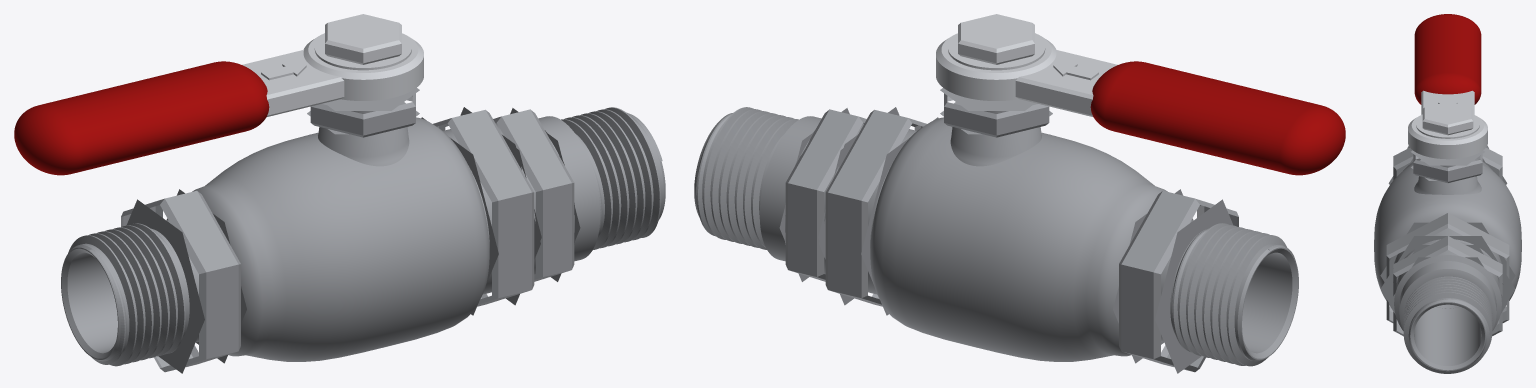
The model's file is valve.obj.
3 views of the same model, side by side, from view 1: azimuth 30°, elevation 25°; view 2: azimuth 150°, elevation 25°; view 3: azimuth 270°, elevation 25° (orthographic). The views are drawn at different scales.
Visible parts, largest first — view 1: Body, Grip, HexLeft, UnionNut, ThreadLeft, ThreadRight, HexRight, EndCap, HandleBar, PackingNut, HandleBoss, HandleNut (+2 smaller); view 2: Body, Grip, HexLeft, UnionNut, ThreadLeft, ThreadRight, HexRight, EndCap, HandleBar, PackingNut, HandleBoss, HandleNut (+2 smaller); view 3: EndCap, Body, Grip, UnionNut, ThreadRight, HexRight, HandleBoss, PackingNut, HandleNut, Bonnet, HexLeft, HandleBar (+1 smaller).
Boxes of the visible parts, x1,y1,x2,y2 form: Body: (61,117,489,361); Grip: (14,61,269,175); HexLeft: (121,189,246,373); UnionNut: (421,107,540,315); ThreadLeft: (68,223,185,366); ThreadRight: (561,107,662,249); HexRight: (493,108,580,281); EndCap: (495,116,665,274); HandleBar: (242,50,344,116); PackingNut: (307,88,419,137); HandleBoss: (303,33,423,100); HandleNut: (325,14,401,64); Body: (870,117,1298,361); Grip: (1090,61,1345,175); HexLeft: (1113,189,1238,373); UnionNut: (819,107,938,315); ThreadLeft: (1172,223,1294,366); ThreadRight: (696,107,798,249); HexRight: (779,108,866,281); EndCap: (694,116,864,274); HandleBar: (1015,50,1117,116); PackingNut: (940,88,1052,137); HandleBoss: (936,33,1056,100); HandleNut: (958,14,1034,64); EndCap: (1394,239,1501,371); Body: (1374,158,1521,308); Grip: (1414,14,1481,104); UnionNut: (1380,213,1515,322); ThreadRight: (1403,276,1492,373); HexRight: (1388,236,1507,336); HandleBoss: (1408,114,1487,159); PackingNut: (1411,150,1484,182); HandleNut: (1422,102,1473,135); Bonnet: (1414,176,1481,194); HexLeft: (1388,147,1507,184); HandleBar: (1421,90,1474,114).
Bounding box in the file's own units: 175 × 83.7 × 55.4.
